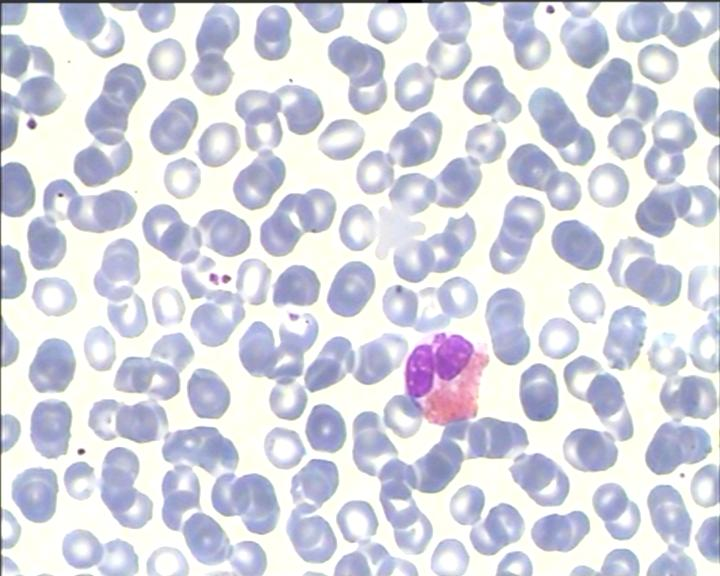eosi: (399, 330, 494, 429)
